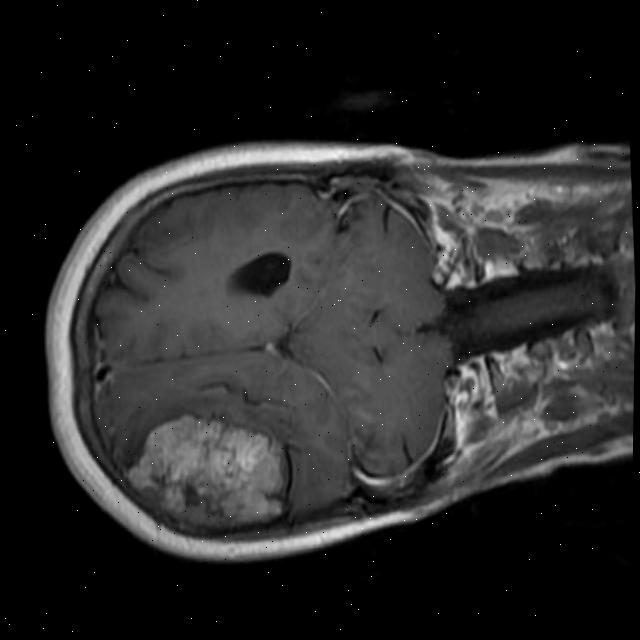Meningioma: (119, 401, 295, 539)
